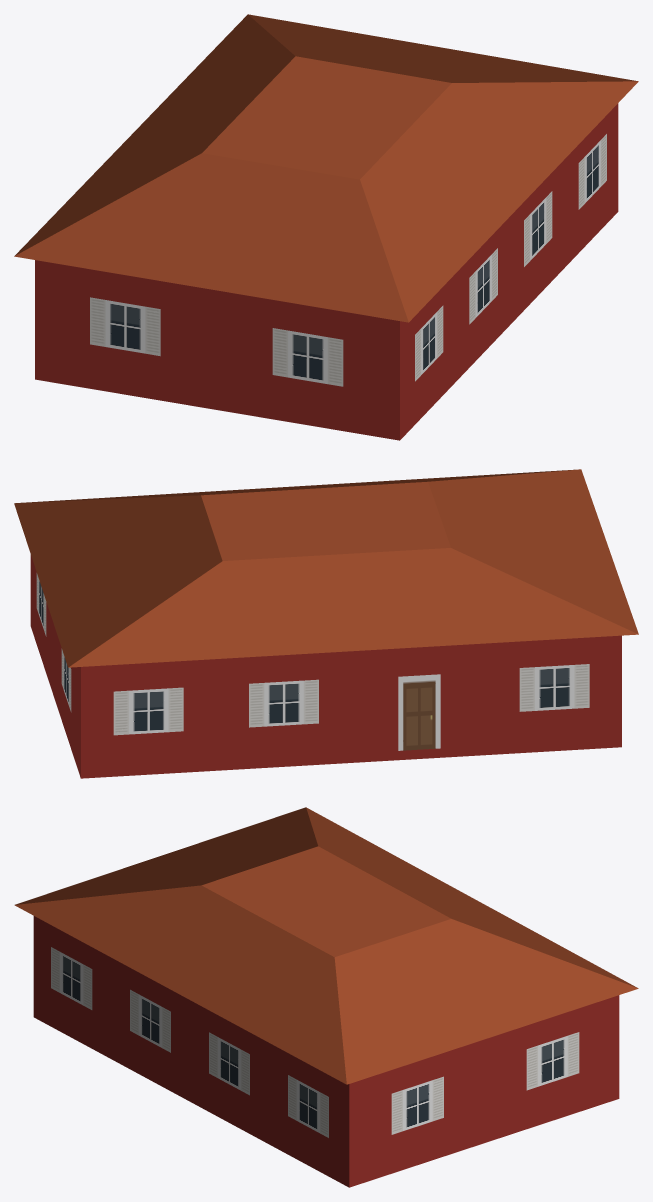
File: msb_sannicolas_23_21.glb
3 views of the same model, one above another, from view 1: azimuth 30°, elevation 25°; view 2: azimuth 150°, elevation 25°; view 3: azimuth 270°, elevation 25° (orthographic). The views are drawn at different scales.
Parts seen in each view (by area): view 1: msb_sannicolas_23_21_lod0; view 2: msb_sannicolas_23_21_lod0; view 3: msb_sannicolas_23_21_lod0.
Boxes of the visible parts, box(x1,y1,x2,y2) form: msb_sannicolas_23_21_lod0: box(14, 14, 638, 440); msb_sannicolas_23_21_lod0: box(14, 469, 638, 778); msb_sannicolas_23_21_lod0: box(14, 807, 638, 1187).
Size of what is drawn, in the model's own units: 18.73 by 4.9 by 17.82.
Materials: 2 (1 with a texture image).
